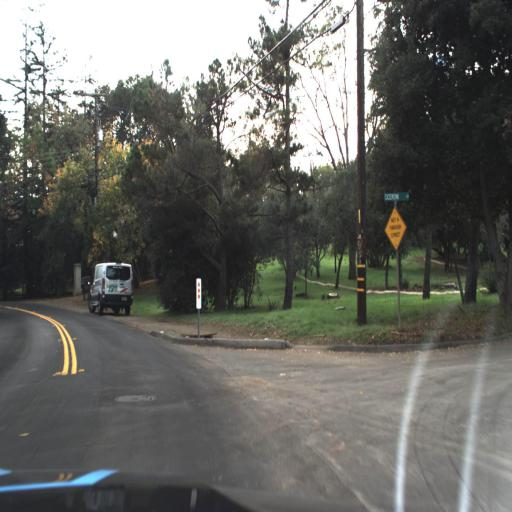car: (86, 259, 138, 315)
